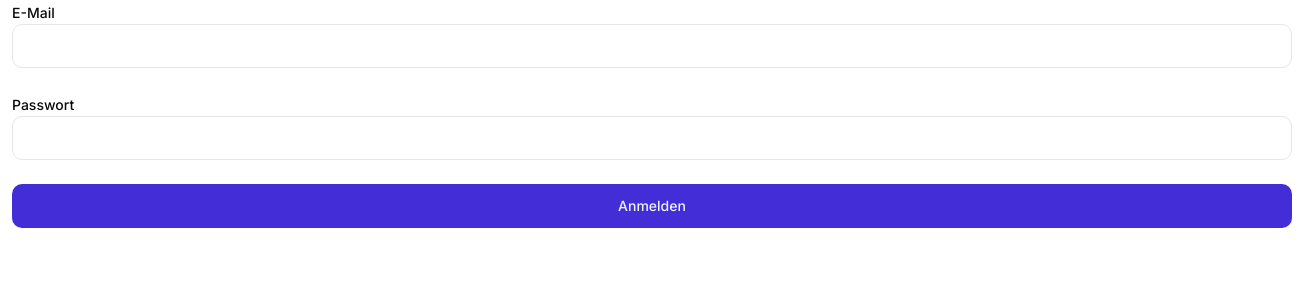
Test case: ermöglicht nach einem Netzwerkfehler einen erneuten Versuch
The image size is (1304, 289).
Later steps or results of the test are not shown.
Step 1. Type "USER@Example.test" into the field labelled "E-Mail" → (652, 46), box [12,24,1292,68]
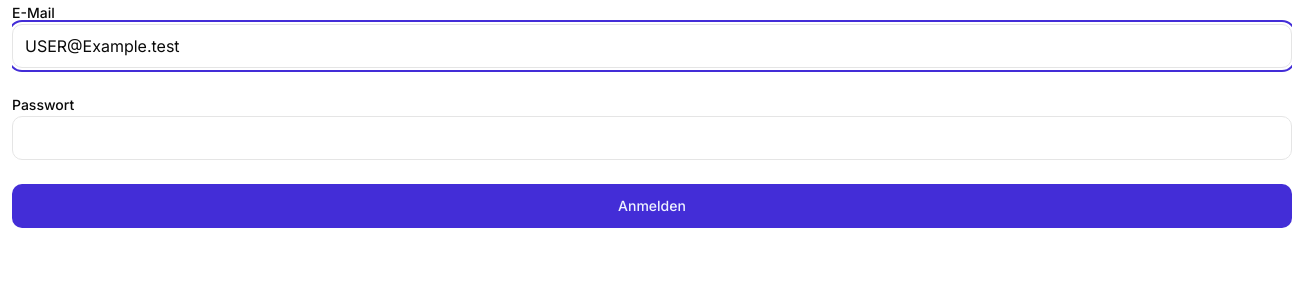
Step 2. Type " Passwort mit Leerzeichen " into the password field labelled "Passwort" → (652, 138), box [12,116,1292,160]
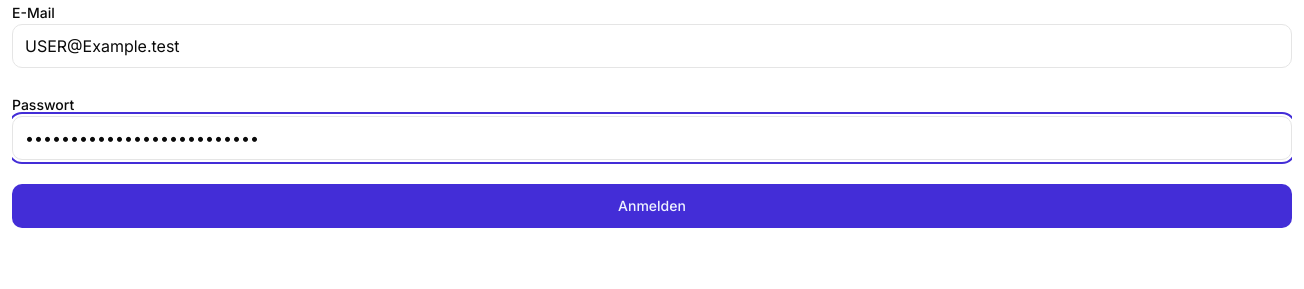
Step 3. Click the button "Anmelden" → (652, 206), box [12,184,1292,228]
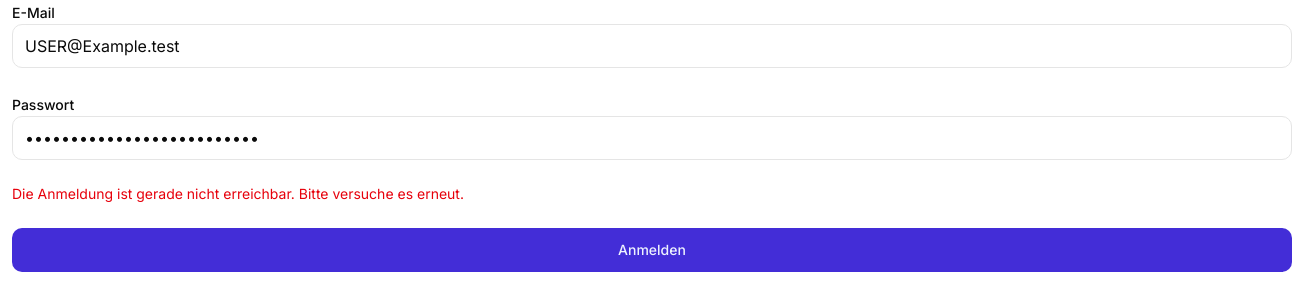
Check: the text "Die Anmeldung ist gerade nicht erreichbar. Bitte versuche es erneut." is shown, box [12,185,464,202]
